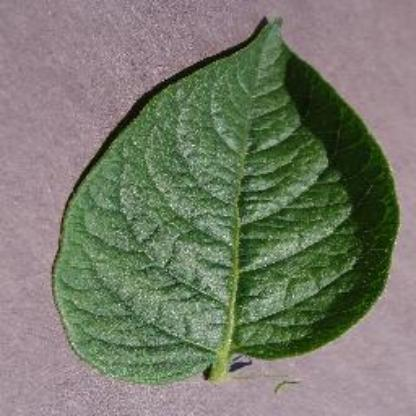Healthy-plant: (47, 14, 400, 392)
